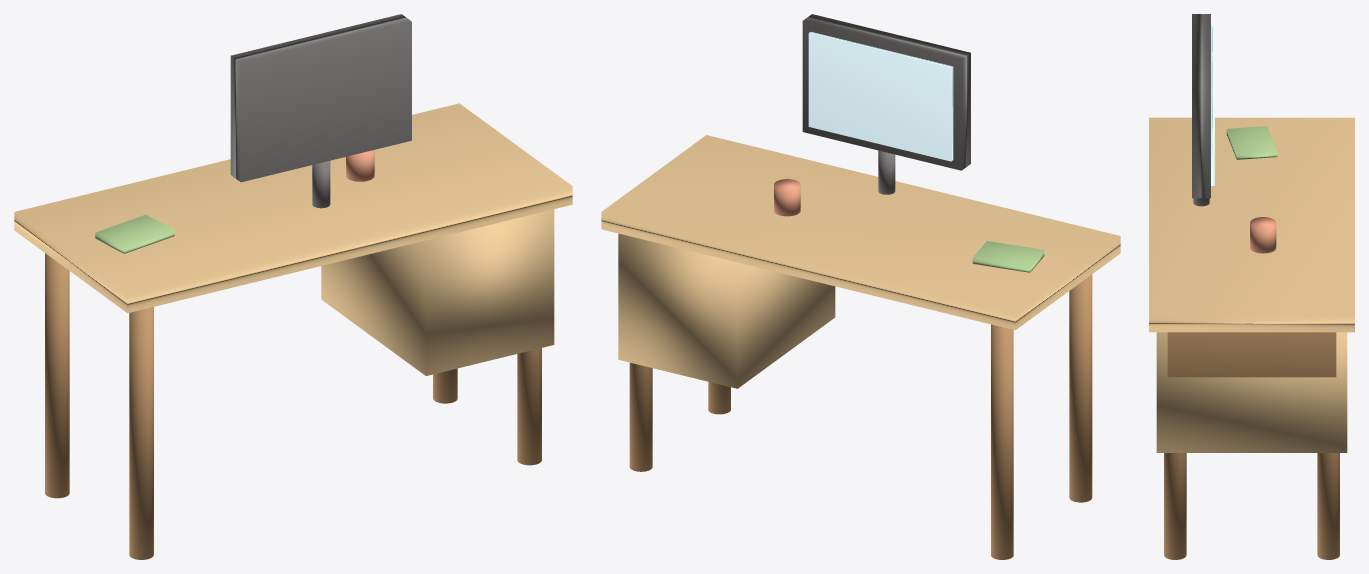
The model's file is desk_table.glb.
3 views of the same model, side by side, from view 1: azimuth 30°, elevation 25°; view 2: azimuth 150°, elevation 25°; view 3: azimuth 270°, elevation 25° (orthographic). The views are drawn at different scales.
Parts seen in each view (by area): view 1: top, drawer, mon_frame, leg_-1-0, leg_-10, leg_1-0, book1, mon_stand, mug, leg_10; view 2: top, drawer, mon_screen, mon_frame, leg_-10, leg_-1-0, leg_10, book1, mug, mon_stand, leg_1-0; view 3: top, drawer, drawer_face, mon_frame, leg_1-0, leg_10, book1, mug, mon_screen.
Boxes of the visible parts, left/top/right/bottom form: top: left=14, top=103, right=572, bottom=313; drawer: left=321, top=209, right=554, bottom=375; mon_frame: left=230, top=14, right=411, bottom=182; leg_-1-0: left=129, top=307, right=153, bottom=559; leg_-10: left=45, top=253, right=69, bottom=498; leg_1-0: left=517, top=348, right=541, bottom=465; book1: left=95, top=214, right=174, bottom=253; mon_stand: left=312, top=161, right=330, bottom=208; mug: left=346, top=150, right=374, bottom=181; leg_10: left=433, top=368, right=457, bottom=403; top: left=601, top=135, right=1120, bottom=330; drawer: left=618, top=233, right=835, bottom=388; mon_screen: left=808, top=32, right=953, bottom=161; mon_frame: left=802, top=14, right=970, bottom=170; leg_-10: left=991, top=324, right=1013, bottom=559; leg_-1-0: left=1069, top=274, right=1092, bottom=502; leg_10: left=629, top=362, right=652, bottom=471; book1: left=972, top=241, right=1044, bottom=272; mug: left=774, top=179, right=800, bottom=216; mon_stand: left=878, top=150, right=895, bottom=194; leg_1-0: left=708, top=382, right=730, bottom=414; top: left=1149, top=117, right=1354, bottom=332; drawer: left=1156, top=332, right=1347, bottom=452; drawer_face: left=1167, top=332, right=1336, bottom=377; mon_frame: left=1192, top=14, right=1210, bottom=198; leg_1-0: left=1164, top=453, right=1186, bottom=559; leg_10: left=1317, top=453, right=1339, bottom=559; book1: left=1226, top=126, right=1277, bottom=159; mug: left=1250, top=217, right=1276, bottom=253; mon_screen: left=1211, top=26, right=1214, bottom=185.
Bounding box in the file's own units: 1.25 × 1.23 × 0.55.
